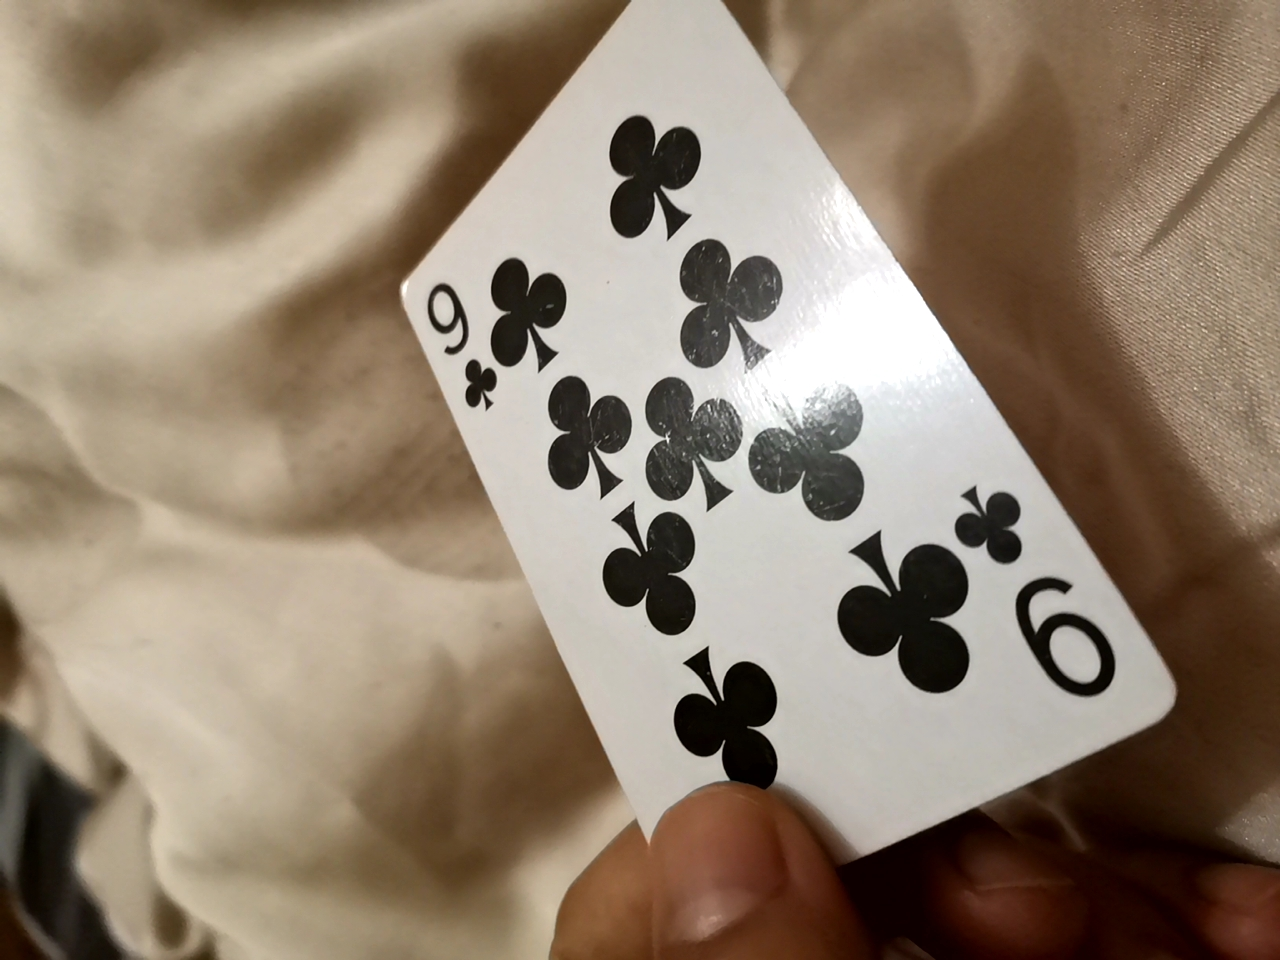mh 9: (362, 0, 1158, 908)
